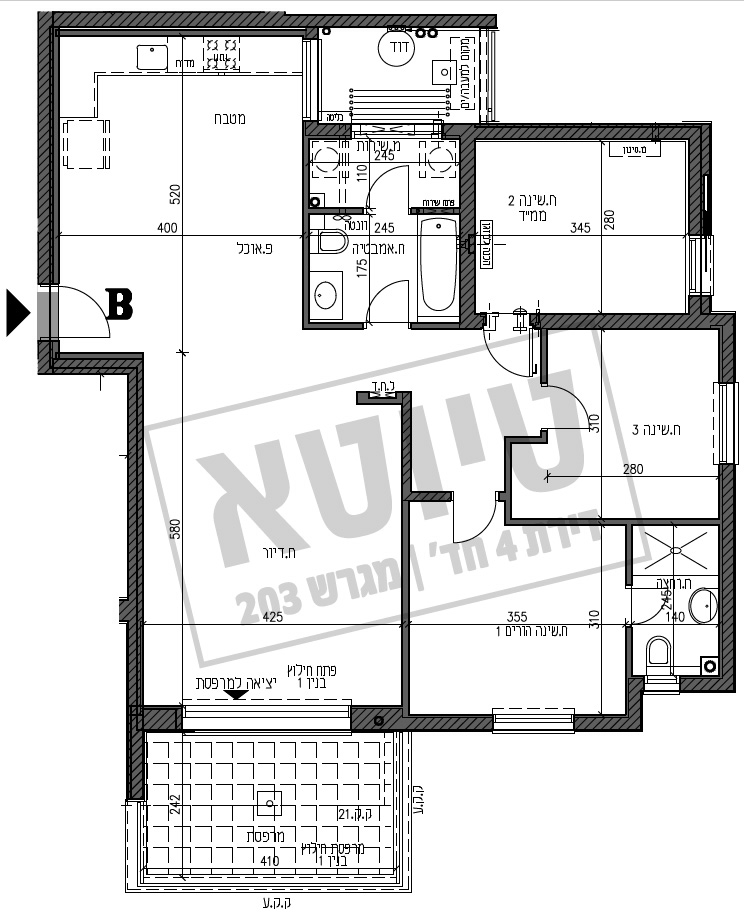door: (64, 277, 114, 343), (447, 506, 496, 560), (474, 338, 536, 380), (555, 381, 591, 440), (362, 279, 415, 310), (375, 162, 414, 201)
wall: (37, 11, 51, 279), (43, 11, 284, 26), (128, 374, 138, 645), (461, 133, 474, 322), (723, 470, 734, 685), (543, 314, 706, 328), (466, 128, 645, 136), (689, 132, 699, 223), (402, 393, 410, 498), (402, 504, 408, 618), (617, 518, 695, 523), (508, 516, 586, 521)
window: (180, 698, 352, 737), (492, 705, 576, 741), (709, 383, 741, 464), (681, 235, 718, 296), (350, 121, 443, 137), (643, 673, 681, 699)
